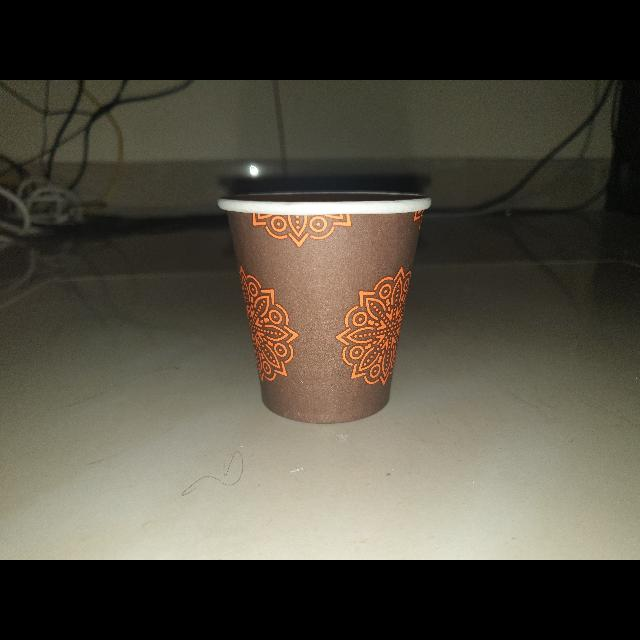trash: (216, 186, 438, 424)
